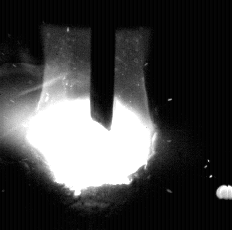arame: (91, 0, 115, 131)
poca: (26, 0, 158, 230)
